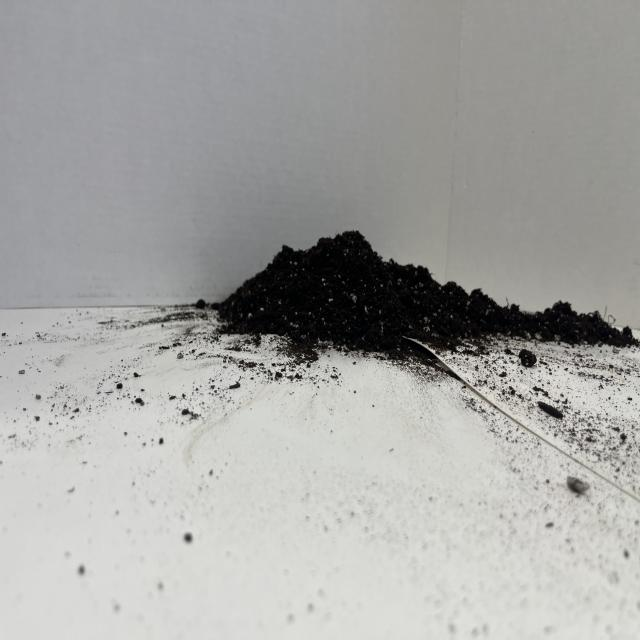soil: (210, 227, 637, 358)
